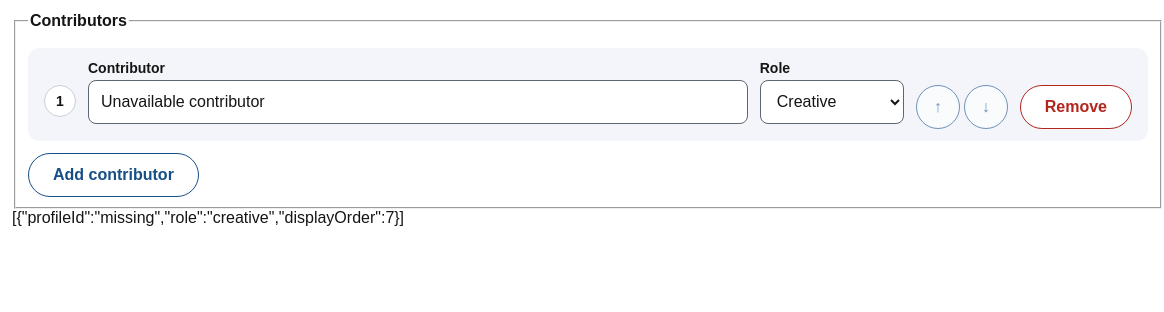
preserves exact request and name after an uncertain creation
This screenshot has width=1164, height=312.
Replace the text in the dropdown named "Contributor 1" with "Retry Guest" at (418, 102), box [88,80,748,124]
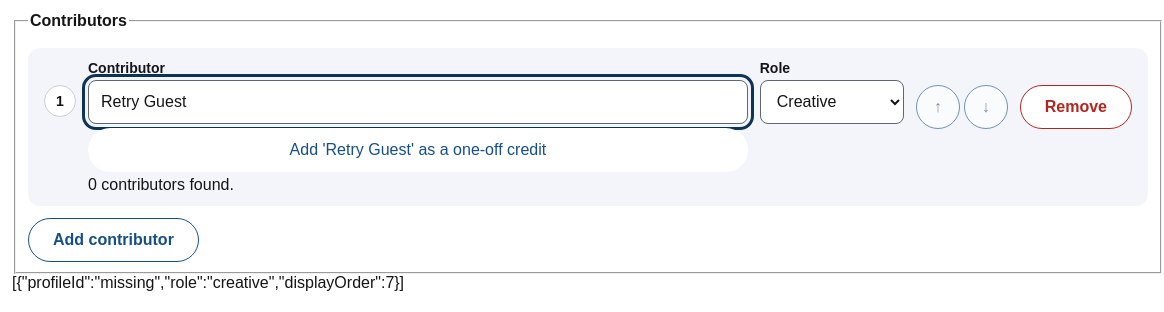
Click the option "Add 'Retry Guest' as a one-off credit" at (418, 150), box [88,128,748,172]
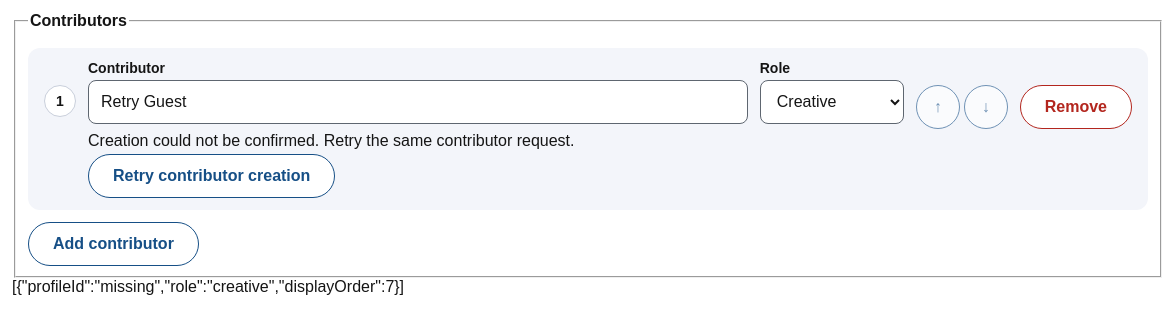
Expected: the dropdown named "Contributor 1" is disabled, [88,80,748,124]
Expected: the message shows "Retry", [88,132,574,149]
Click the button "Retry contributor creation" at (212, 176), box [88,154,335,198]
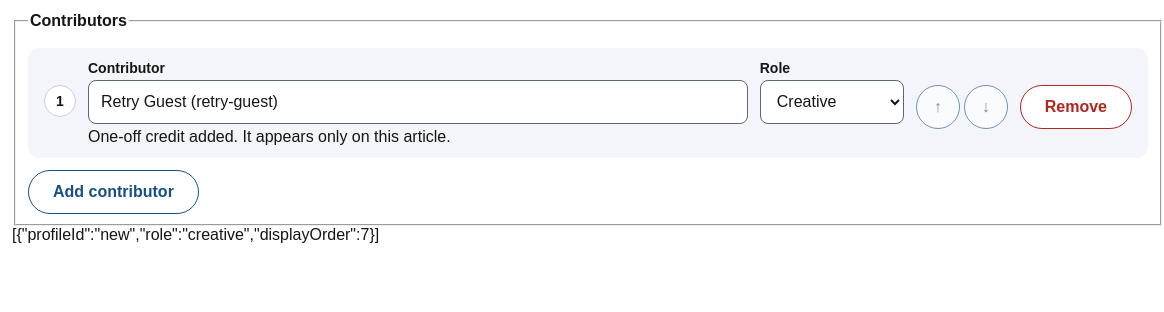
Expected: the dropdown showing "Retry Guest (retry-guest)" is shown, [88,80,748,124]
